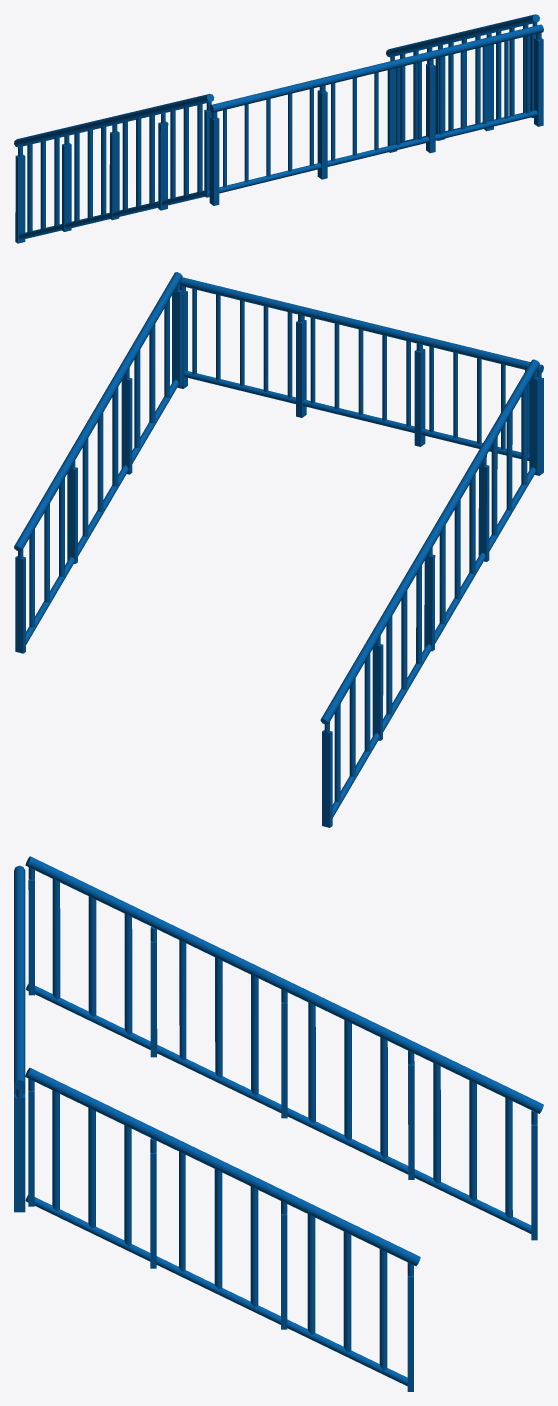
File: Guard_01_Ufa.FBX
3 views of the same model, one above another, from view 1: azimuth 30°, elevation 25°; view 2: azimuth 150°, elevation 25°; view 3: azimuth 270°, elevation 25° (orthographic). The views are drawn at different scales.
Parts seen in each view (by area): view 1: Guard_01_Ufa; view 2: Guard_01_Ufa; view 3: Guard_01_Ufa.
Boxes of the visible parts, left/top/right/bottom form: Guard_01_Ufa: left=14, top=14, right=543, bottom=243; Guard_01_Ufa: left=14, top=272, right=543, bottom=827; Guard_01_Ufa: left=14, top=856, right=543, bottom=1391.
Bounding box in the file's own units: 3.65 × 3 × 3.77.
Materials: 1 (1 with a texture image).
